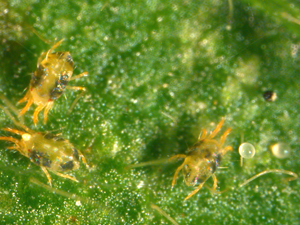Mites: (167, 110, 232, 206), (5, 117, 90, 189), (20, 32, 76, 122)
